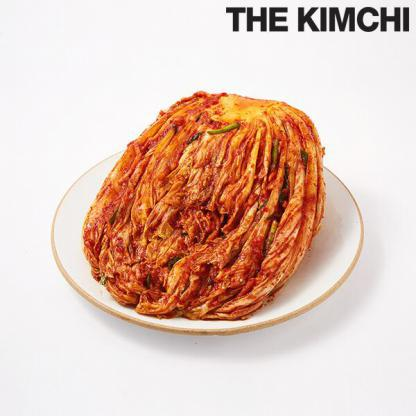kimchi: (90, 74, 325, 340)
